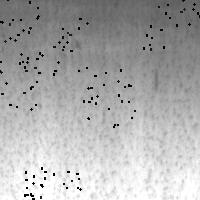pitted_surface: (1, 1, 200, 200), (78, 69, 134, 126), (28, 18, 86, 73), (143, 0, 200, 48), (0, 49, 39, 108), (20, 167, 79, 200), (0, 0, 37, 43)
